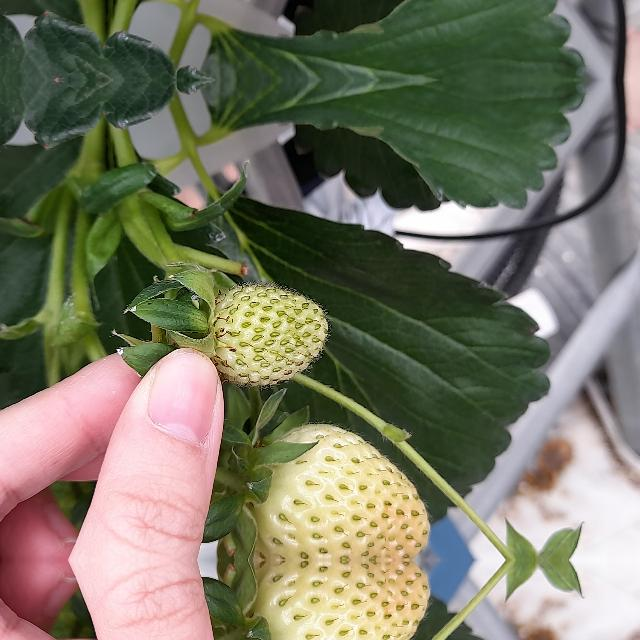Health_25: (226, 422, 432, 560), (226, 560, 432, 640), (210, 284, 328, 386)
